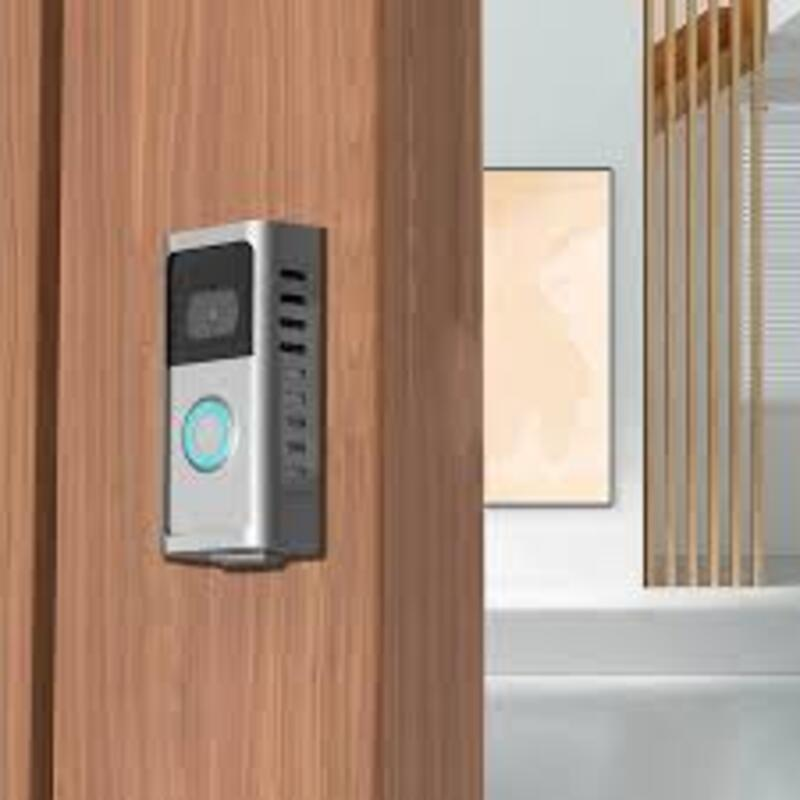doorbell: (152, 232, 316, 567)
